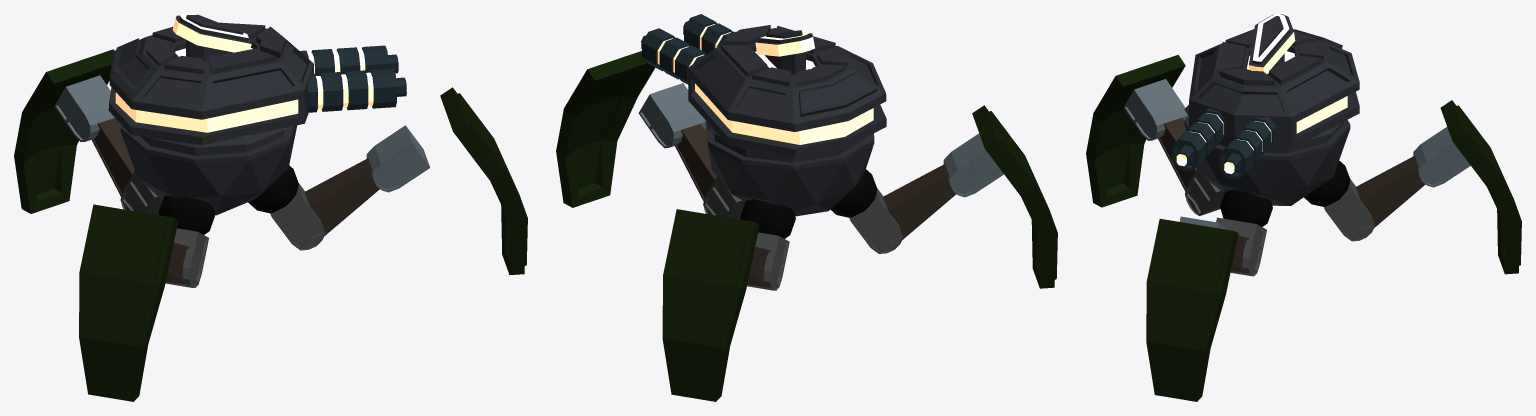
File: Single Moduler Vehicles.glb
3 views of the same model, side by side, from view 1: azimuth 30°, elevation 25°; view 2: azimuth 150°, elevation 25°; view 3: azimuth 270°, elevation 25° (orthographic). The views are drawn at different scales.
Visible parts, largest first — view 1: Cube.028, Plane.006, Icosphere.007, Plane.007, Plane.005, Cube.030, Cylinder.020, Cube.023, Cube.027, Cube.029, Cube.022, Cylinder.022 (+5 smaller); view 2: Cube.028, Plane.007, Plane.005, Icosphere.007, Plane.006, Cylinder.021, Cube.023, Cube.025, Cube.029, Cube.024, Cylinder.020, Icosphere.006 (+5 smaller); view 3: Cube.028, Plane.005, Plane.006, Icosphere.007, Plane.007, Cylinder.022, Cube.025, Cube.029, Cube.030, Cube.027, Cube.026, Icosphere.004 (+4 smaller).
Boxes of the visible parts, x1,y1,x2,y2 form: Cube.028: (108, 14, 313, 145); Plane.006: (79, 204, 178, 401); Icosphere.007: (120, 125, 297, 215); Plane.007: (14, 49, 114, 213); Plane.005: (440, 87, 527, 274); Cube.030: (307, 68, 406, 112); Cylinder.020: (304, 152, 398, 235); Cube.023: (366, 125, 430, 192); Cube.027: (54, 75, 114, 141); Cube.029: (300, 45, 398, 75); Cube.022: (270, 183, 325, 250); Cylinder.022: (92, 118, 154, 208); Cube.028: (688, 25, 886, 157); Plane.007: (662, 209, 759, 401); Plane.005: (556, 51, 655, 207); Icosphere.007: (705, 120, 874, 216); Plane.006: (972, 105, 1057, 288); Cylinder.021: (883, 158, 974, 239); Cube.023: (638, 83, 706, 148); Cube.025: (943, 133, 1003, 197); Cube.029: (641, 28, 706, 84); Cube.024: (849, 188, 903, 253); Cylinder.020: (675, 124, 735, 213); Icosphere.006: (740, 199, 795, 238); Cube.028: (1189, 14, 1359, 148); Plane.005: (1146, 218, 1238, 401); Plane.006: (1086, 54, 1185, 207); Icosphere.007: (1184, 105, 1350, 205); Plane.007: (1440, 100, 1521, 274); Cylinder.022: (1355, 150, 1443, 227); Cube.025: (1123, 79, 1187, 140); Cube.029: (1219, 117, 1276, 179); Cube.030: (1171, 108, 1225, 171); Cube.027: (1413, 127, 1470, 187); Cube.026: (1324, 179, 1374, 241); Icosphere.004: (1220, 189, 1272, 226).
Bounding box in the file's own units: 6.11 × 3.4 × 5.24.
Materials: 2 (1 with a texture image).
